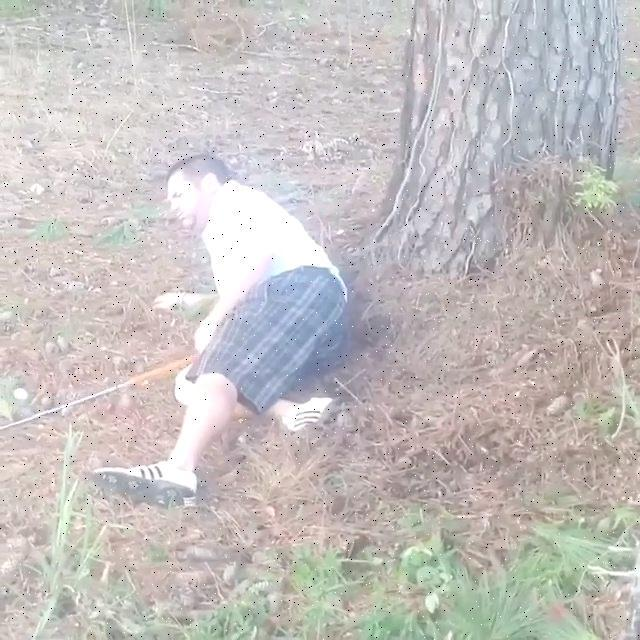golf ball: (15, 388, 28, 399)
golf club-handle: (0, 353, 195, 431)
